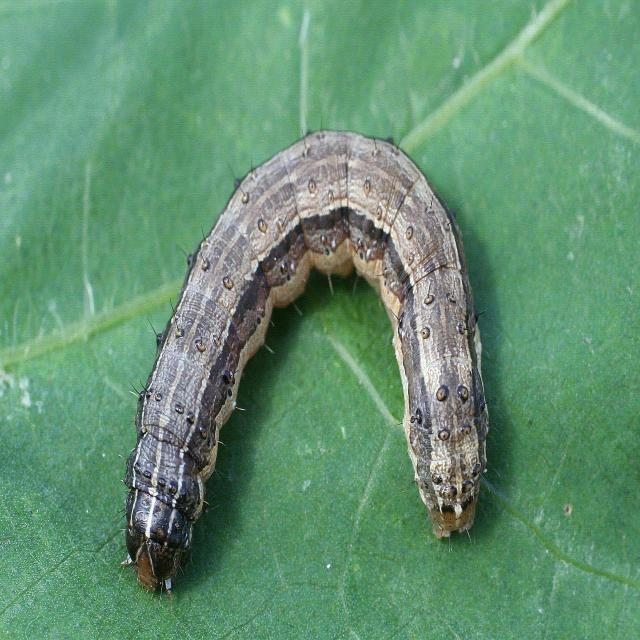Armyworm: (41, 77, 527, 600)
